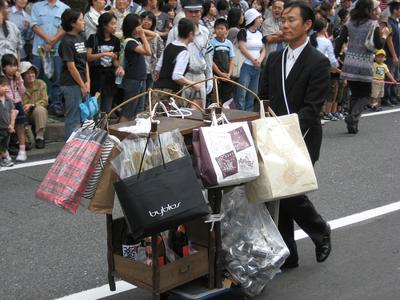person: (253, 2, 335, 270)
